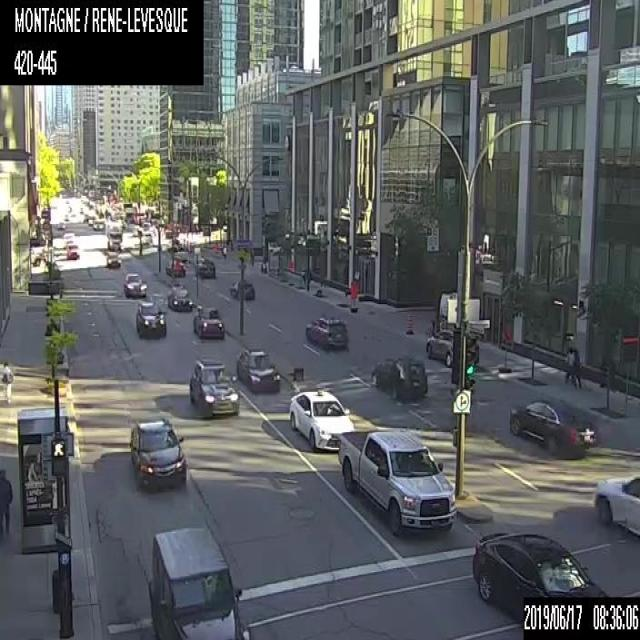construction: (349, 280, 358, 311), (406, 307, 414, 332)
pedestrian: (0, 466, 12, 534), (2, 360, 13, 403), (572, 348, 582, 386), (564, 348, 573, 387)
vehicle: (338, 428, 458, 534), (471, 530, 607, 618), (148, 524, 243, 639), (508, 399, 599, 456), (128, 416, 186, 489), (288, 387, 354, 451), (188, 356, 240, 416), (593, 471, 639, 537), (369, 356, 427, 401), (424, 325, 479, 367), (235, 347, 279, 390), (304, 314, 347, 349), (134, 300, 167, 339), (192, 306, 224, 338), (166, 284, 193, 311), (122, 271, 145, 297), (229, 279, 255, 300), (192, 258, 215, 278), (106, 221, 121, 250), (164, 257, 186, 276), (66, 241, 80, 259), (106, 252, 120, 267), (141, 228, 153, 244), (92, 218, 104, 229), (56, 220, 66, 230), (86, 189, 94, 199)
